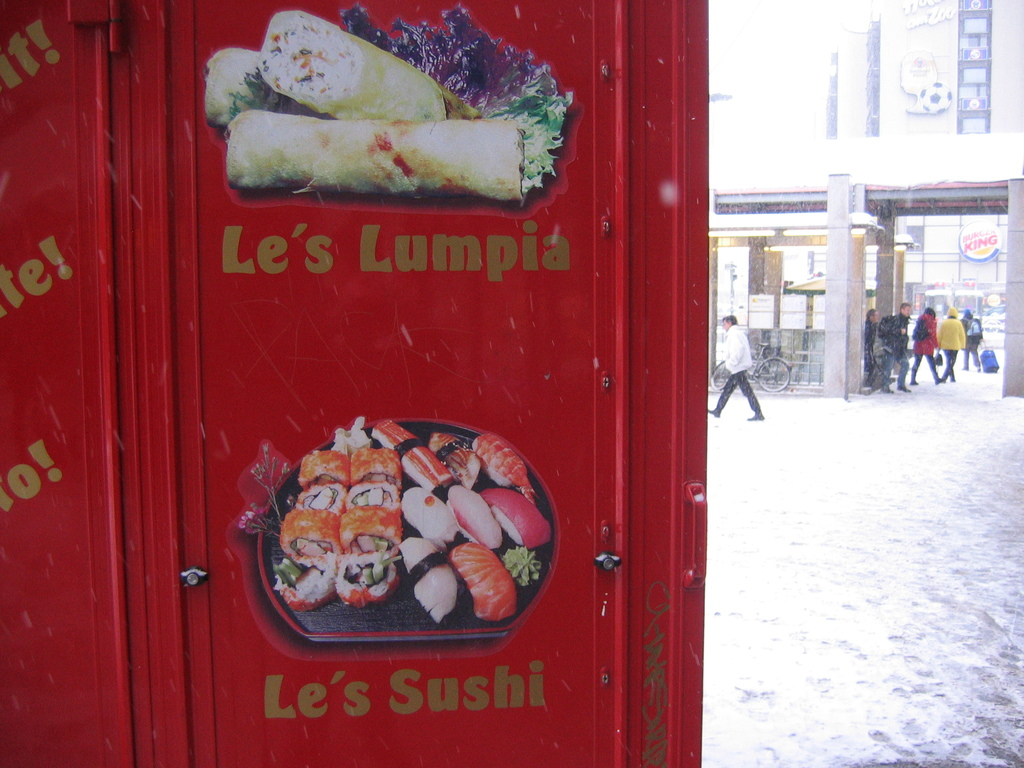sushi: (225, 420, 551, 643)
